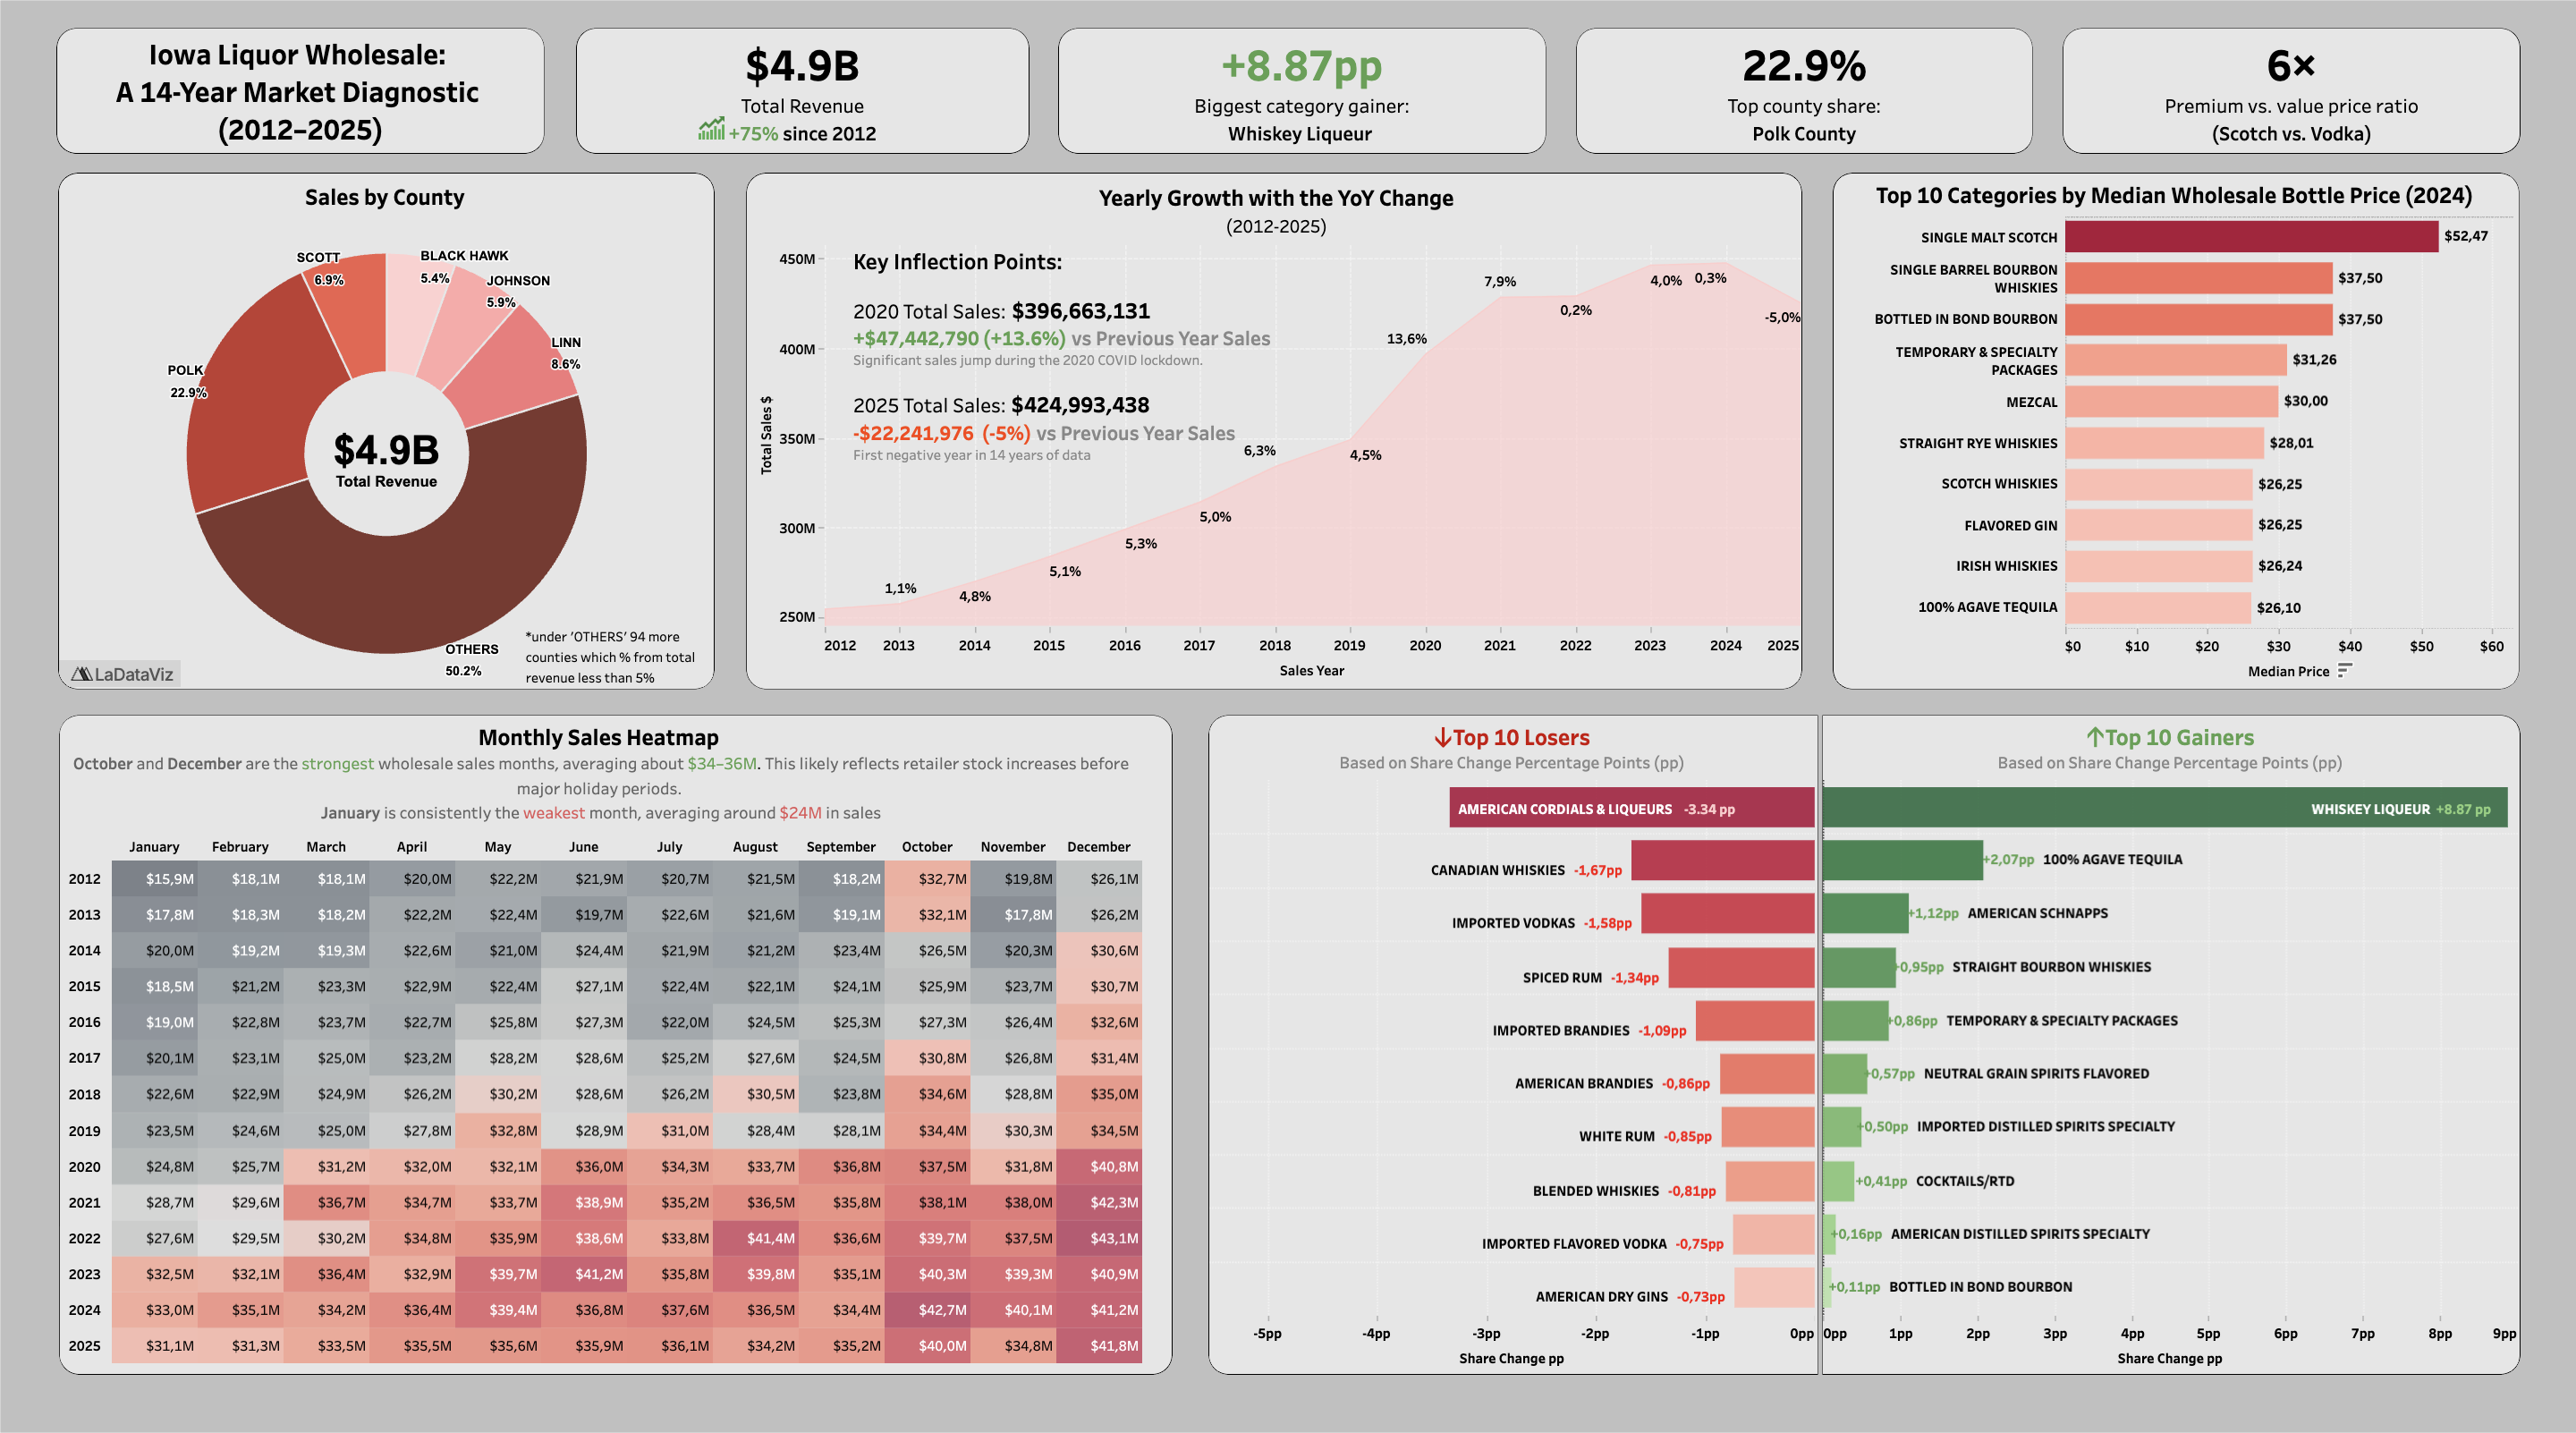

This screenshot's page, from the dashboard's own definition file:
{"tool":"tableau","page":{"name":"Iowa Liquor Wholesale Analysis","canvas":[1800,1000],"ordinal":0},"visuals":[{"type":"text","box":[39,19,341,88]},{"type":"text","box":[402,19,317,88]},{"type":"text","box":[739,19,341,88]},{"type":"text","box":[1101,19,319,88]},{"type":"text","box":[1441,19,320,88]},{"type":"image","param":"/Users/martanarozhnyak/Downloads/icons8-increase-color/icons8-increase-96.png","box":[486,77,25,22]},{"type":"worksheet","title":"Sales by Counties","box":[40,120,459,361]},{"type":"worksheet","title":"YoY Sales","mark":"Area","rows":["total_sales"],"cols":["sales_year"],"box":[521,120,738,361]},{"type":"worksheet","title":"Top 10 Categories by Median Wholesale Bottle Price","mark":"Automatic","rows":["category_name"],"cols":["median_price"],"box":[1280,120,480,361]},{"type":"text","box":[367,436,144,43]},{"type":"worksheet","title":"MoM Sales","mark":"Square","rows":["sales_year"],"cols":["sales_month"],"box":[41,499,778,461]},{"type":"worksheet","title":"Losers","mark":"Automatic","rows":["category_name"],"cols":["share_change_pp"],"box":[844,499,426,461]},{"type":"worksheet","title":"Gainers","mark":"Automatic","rows":["category_name"],"cols":["share_change_pp"],"box":[1273,499,488,461]}]}

Visuals, with their boxes in screenshot pixels (x1, y1, x2, y2), scaled from the page's 1800x1000 canvas onto the 2576x1433 screenshot:
text: 55/27/544/153
text: 575/27/1029/153
text: 1057/27/1546/153
text: 1576/27/2032/153
text: 2063/27/2521/153
image: 696/110/732/142
"Sales by Counties" worksheet: 57/172/714/690
"YoY Sales" worksheet (Area marks): 746/172/1801/690
"Top 10 Categories by Median Wholesale Bottle Price" worksheet: 1832/172/2519/690
text: 525/624/732/686
"MoM Sales" worksheet (Square marks): 59/715/1172/1376
"Losers" worksheet: 1207/715/1818/1376
"Gainers" worksheet: 1822/715/2521/1376
